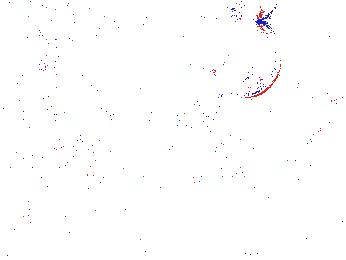moon jellyfish: (209, 22, 284, 99), (133, 60, 227, 118), (289, 123, 346, 210), (64, 10, 173, 54), (293, 18, 346, 106)
